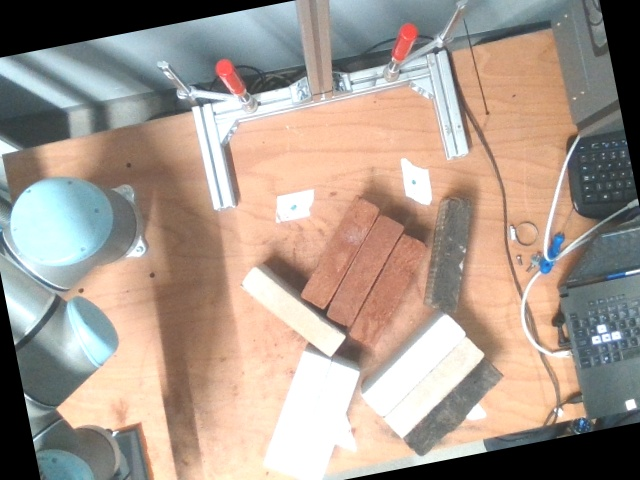brick-side: (366, 318, 463, 415), (388, 338, 485, 435), (406, 361, 500, 455), (241, 269, 342, 354), (303, 197, 379, 307), (328, 216, 404, 326), (351, 236, 427, 346), (266, 357, 328, 471), (295, 366, 357, 479), (435, 201, 469, 308)
